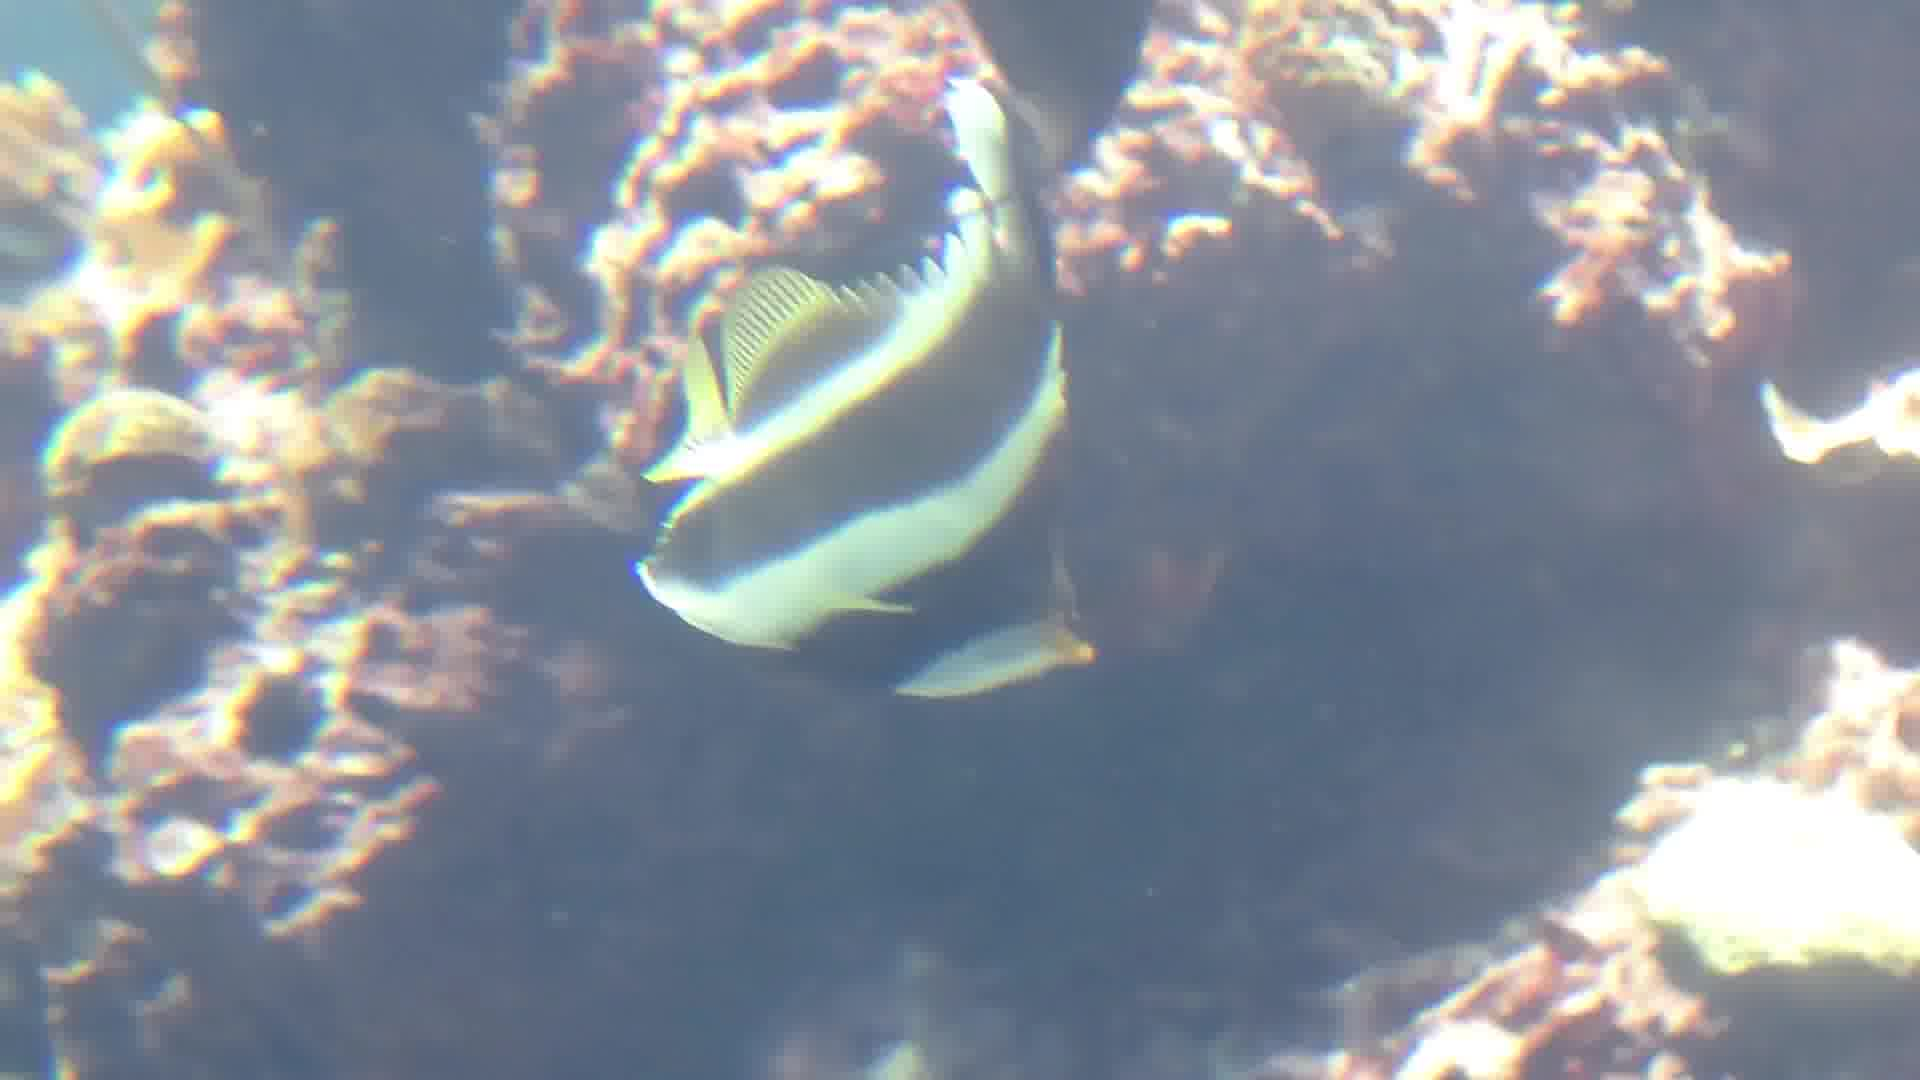Heniochus chrysostomus: (562, 15, 1139, 727)
